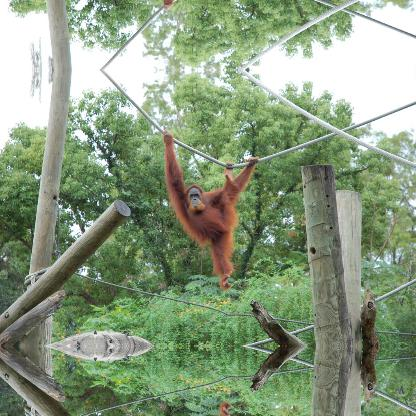Monkey: (163, 142, 259, 280)
